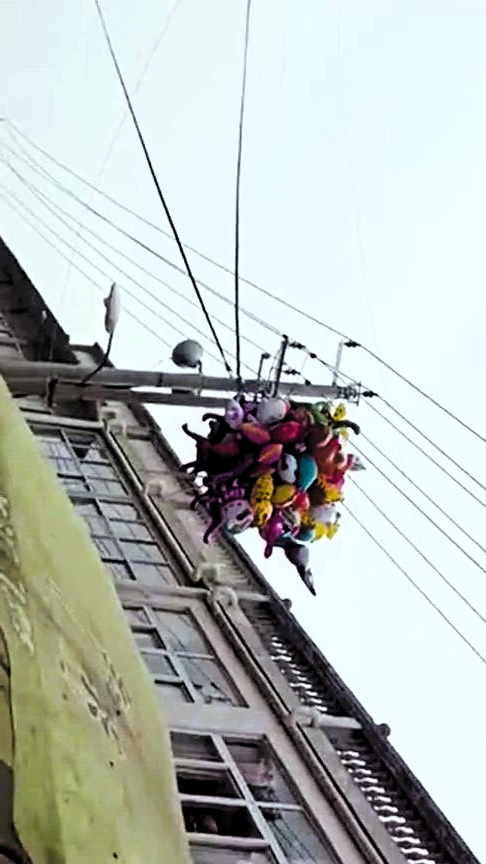wire foreign body: (166, 376, 376, 579)
